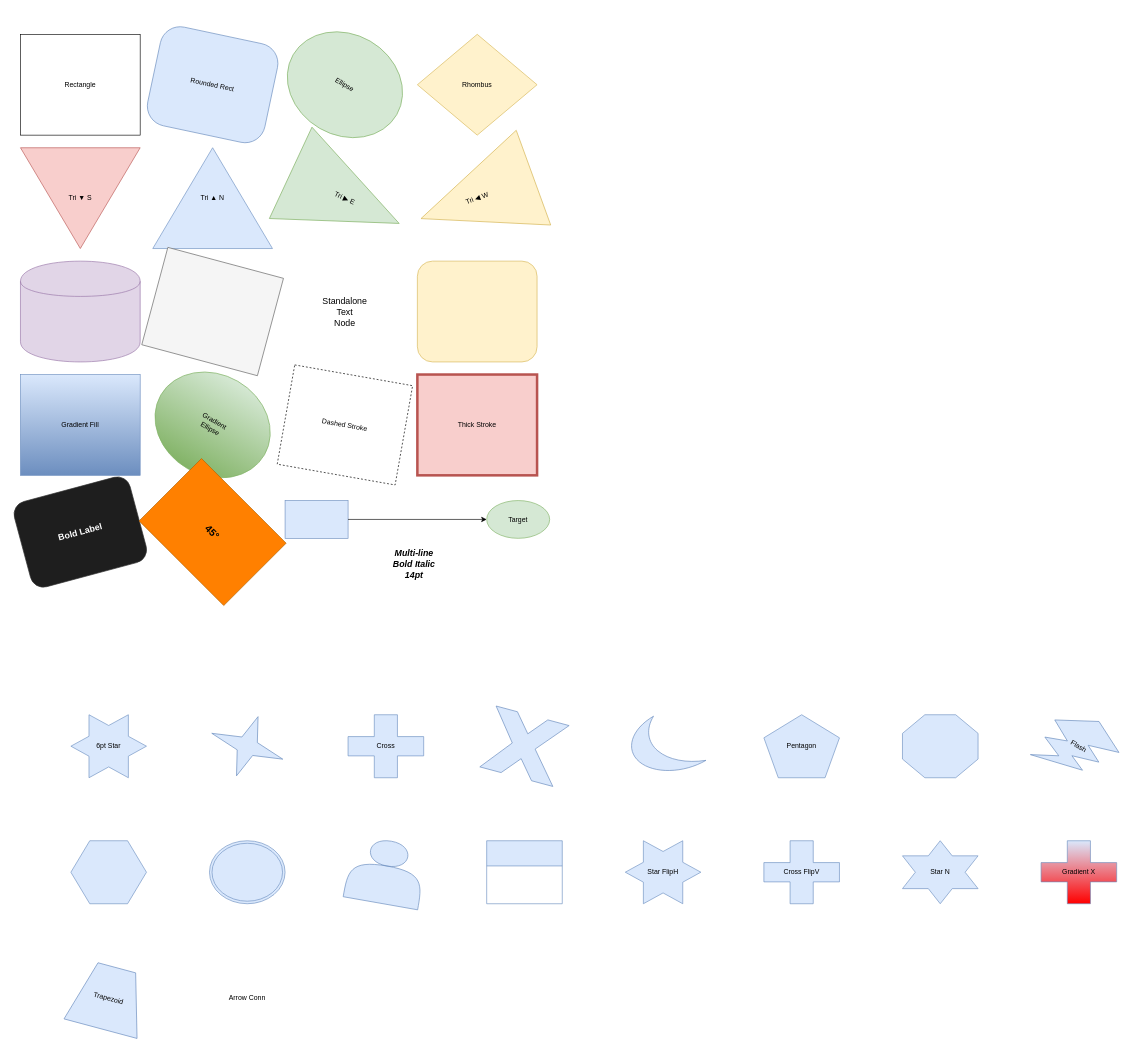
Image size: 1139x1050. Some labels were removed from this diagram. Each missing label, with the box of its shape:
4pt Star: (200, 703, 294, 789)
Actor: (342, 834, 429, 910)
Built-in Hex: (70, 840, 146, 904)
Cloud: (141, 247, 284, 376)
Cylinder: (20, 261, 140, 362)
Dbl Ellipse: (209, 840, 285, 904)
Label Shape: (417, 261, 537, 362)
Moon: (618, 705, 708, 787)
Octagon: (902, 714, 978, 778)
Source: (284, 500, 348, 538)
Swimlane: (486, 840, 562, 904)
X Shape: (479, 705, 569, 787)
